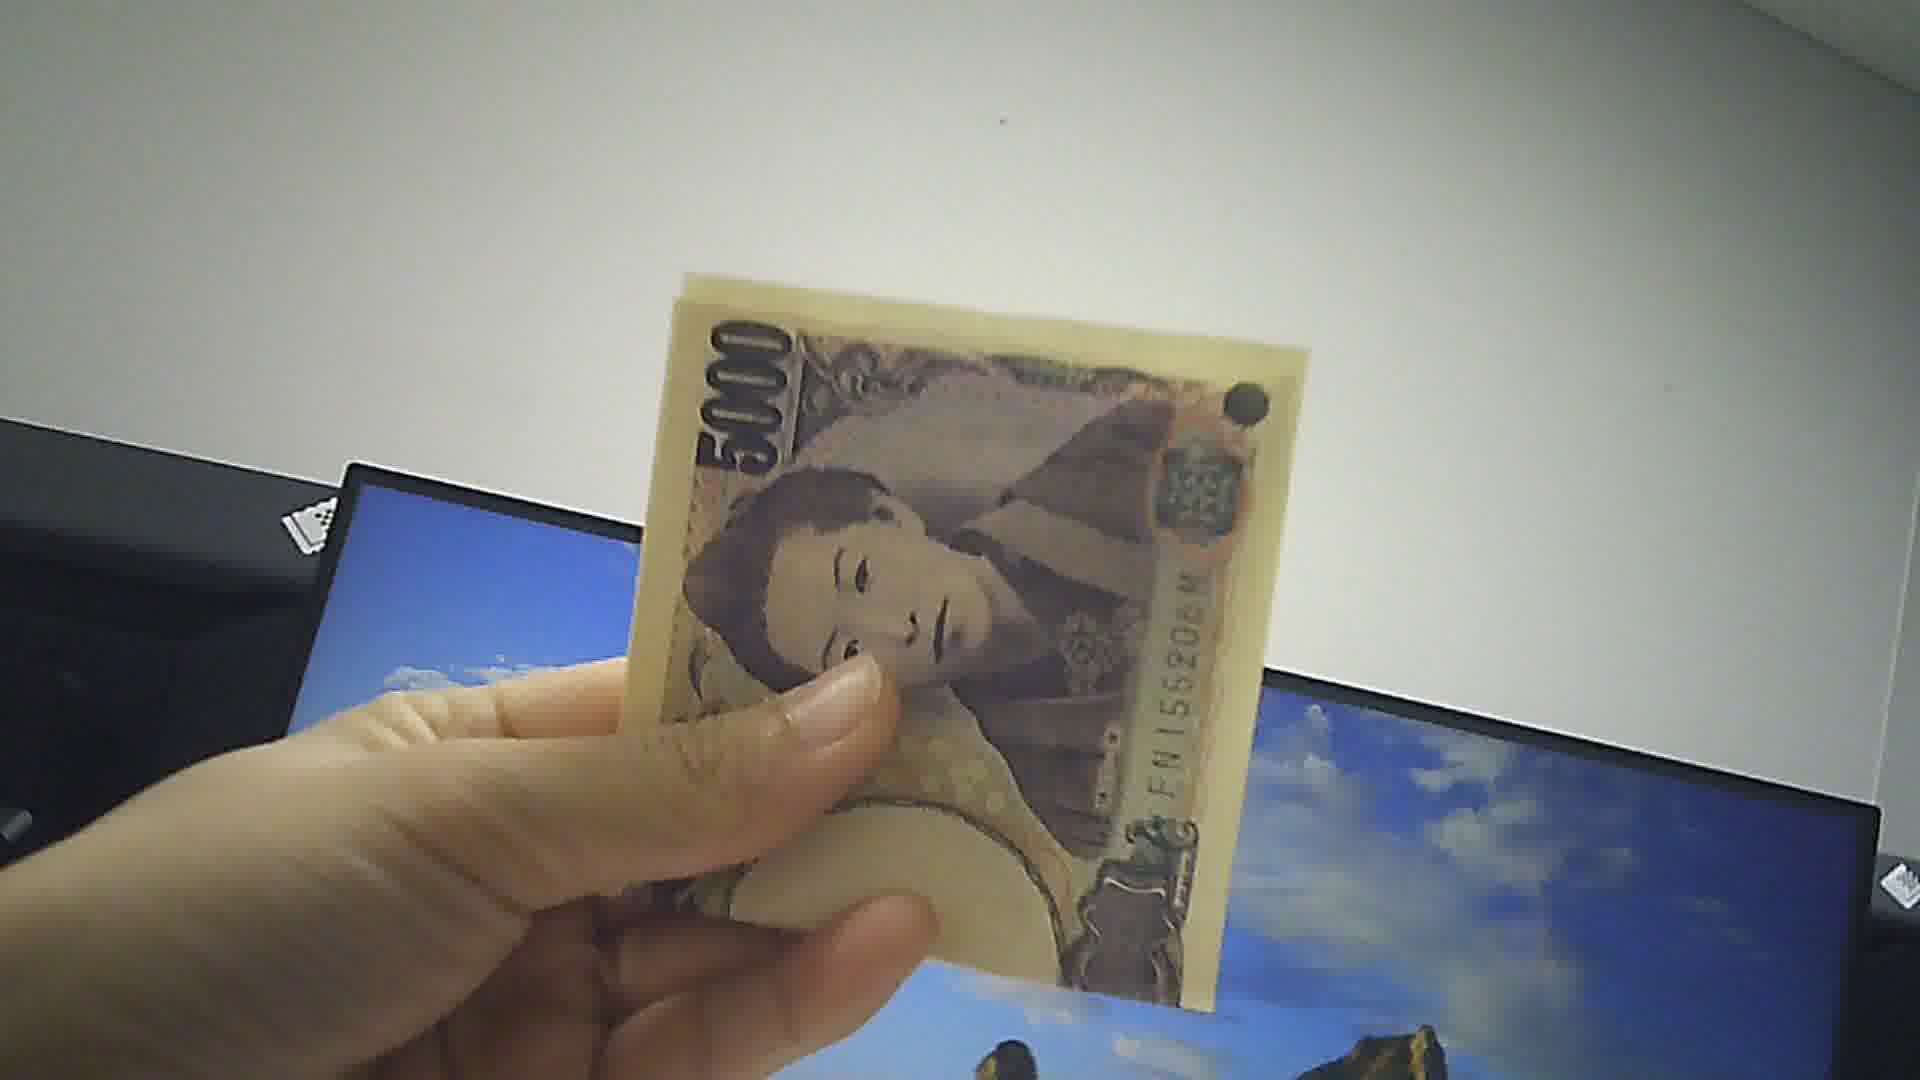5,000 Yen: (607, 270, 1302, 1025)
